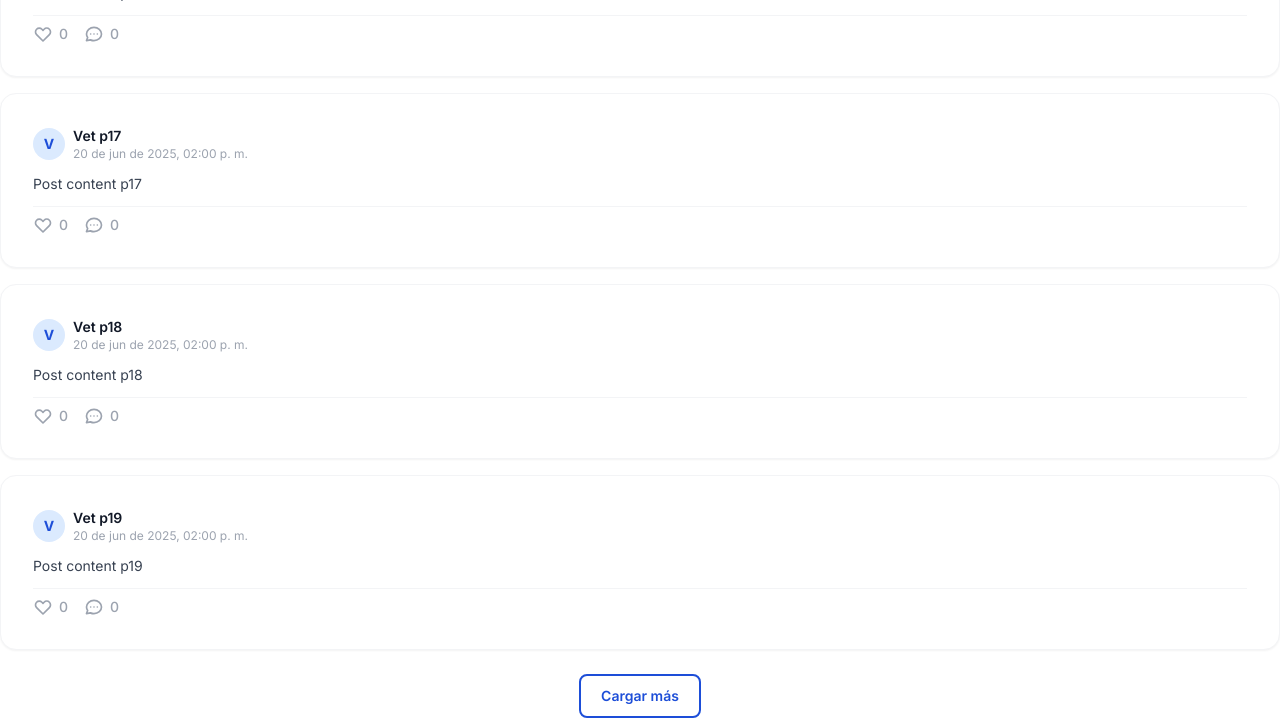
Test case: PostFeed › carga más posts al hacer click en cargar más
(page scrolled)
Click the button "Cargar más": point(640, 696) [579,674,701,717]
(page scrolled)
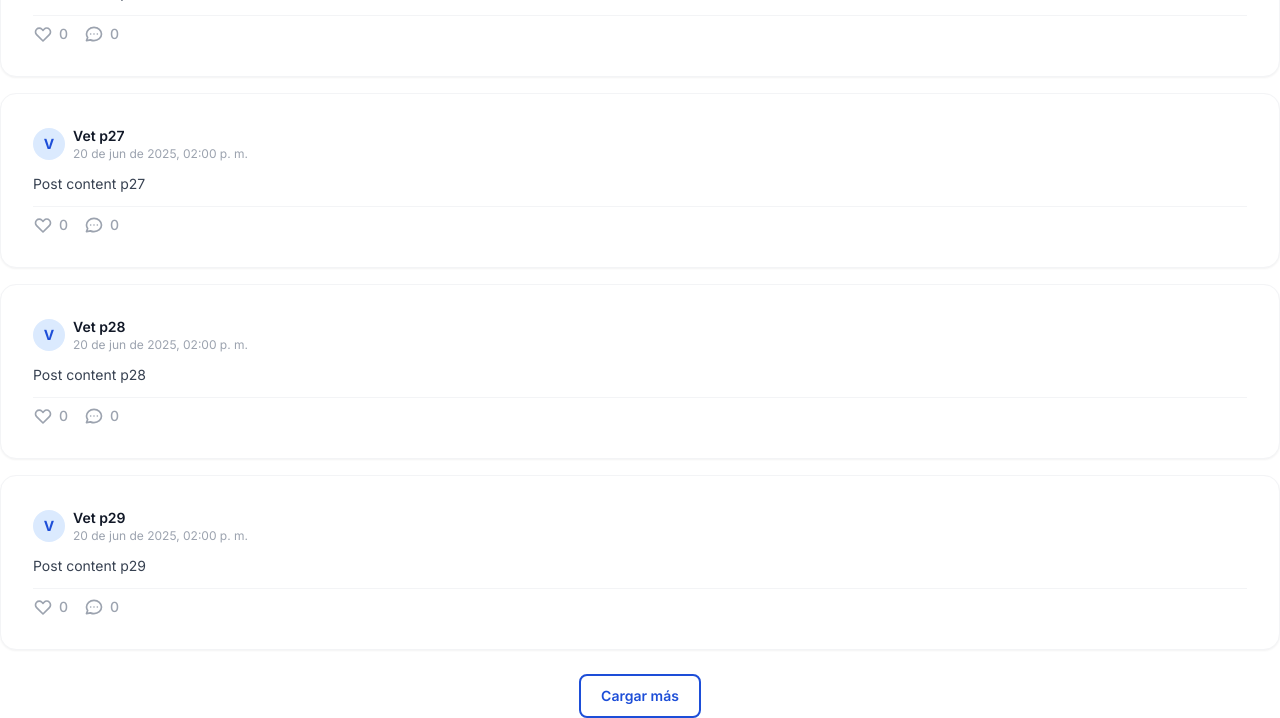
Expected: the text "Post content p29" is shown, [33,557,146,574]
